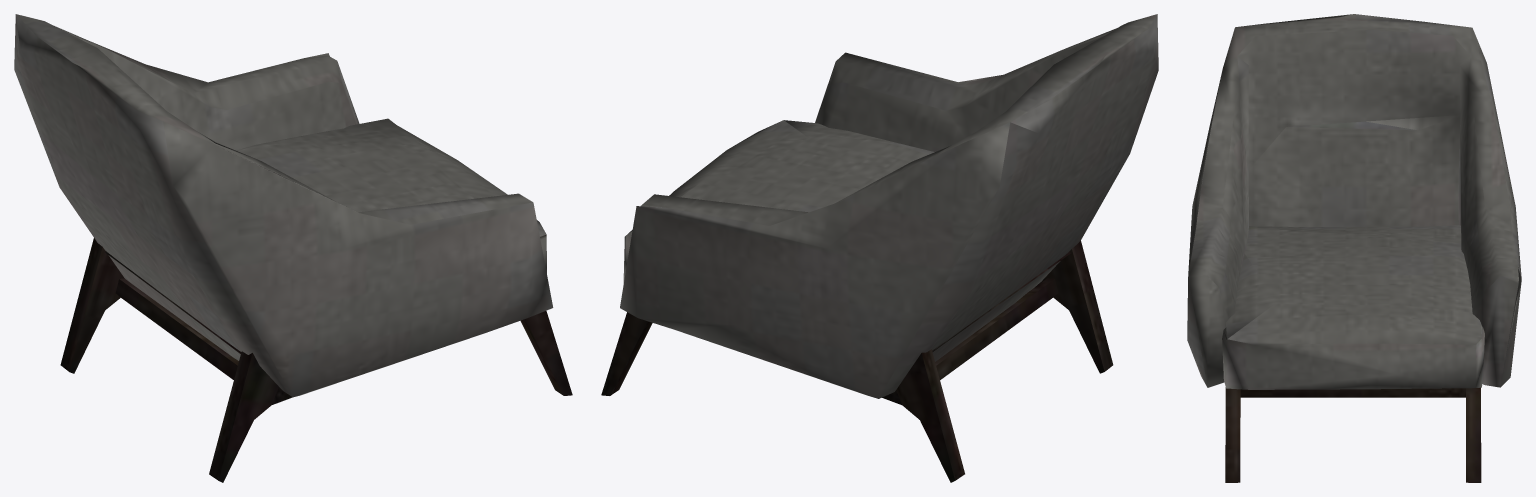
The model's file is S_Sofa0007.obj.
3 renders of one model, left to right at view 1: azimuth 30°, elevation 25°; view 2: azimuth 150°, elevation 25°; view 3: azimuth 270°, elevation 25°, orthographic. The views are drawn at different scales.
Bounding box in the file's own units: 0.842 × 0.726 × 0.72.
1 material, 1 textured.
